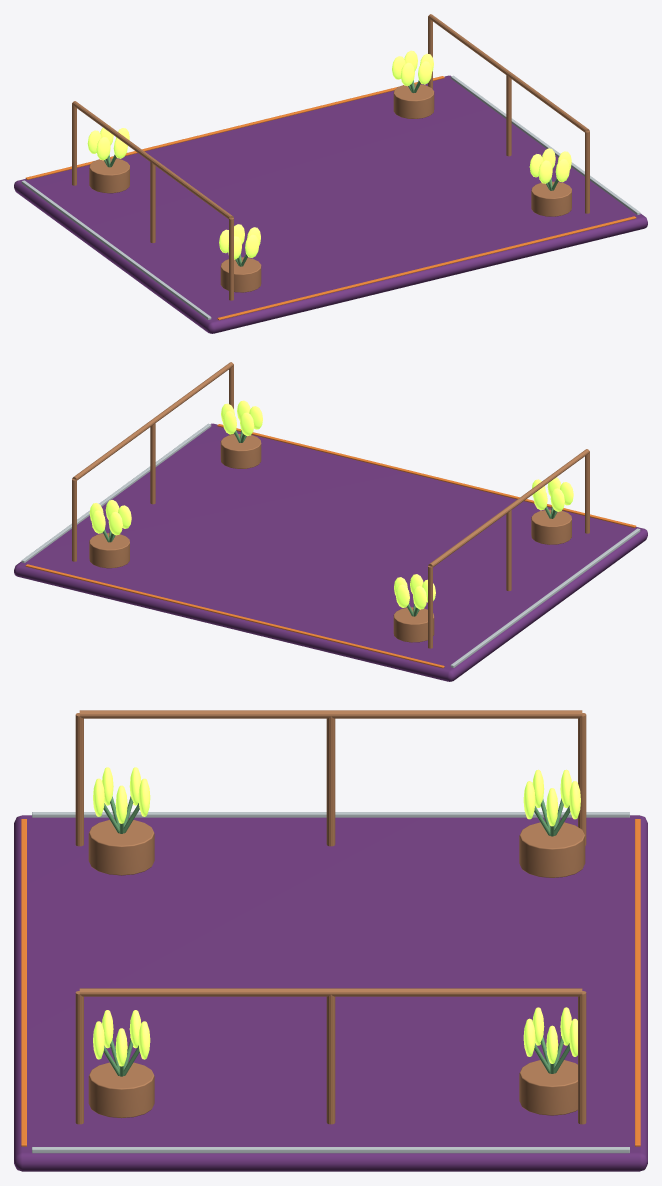
The model's file is arena-greenhouse.glb.
3 renders of one model, top to bottom at view 1: azimuth 30°, elevation 25°; view 2: azimuth 150°, elevation 25°; view 3: azimuth 270°, elevation 25°, orthographic. The views are drawn at different scales.
Visible parts, largest first — view 1: Arena slab.002, Orange safety edge.004, Mechanical planter.001, Mechanical planter, Mechanical planter.003, Orange safety edge.005, Aluminium edge.004, Greenhouse roof rail, Greenhouse roof rail.001, Mechanical planter.002, Aluminium edge.005, Greenhouse frame.001 (+1 smaller); view 2: Arena slab.002, Orange safety edge.005, Orange safety edge.004, Mechanical planter.003, Mechanical planter.001, Mechanical planter.002, Aluminium edge.004, Mechanical planter, Greenhouse roof rail, Greenhouse roof rail.001, Aluminium edge.005, Greenhouse frame.001 (+1 smaller); view 3: Arena slab.002, Greenhouse roof rail, Greenhouse roof rail.001, Aluminium edge.005, Mechanical planter, Mechanical planter.003, Mechanical planter.002, Aluminium edge.004, Mechanical planter.001, Orange safety edge.004, Orange safety edge.005, Greenhouse frame.001 (+5 smaller).
Part boxes in pixels (left/top/right/bottom): Arena slab.002: left=14, top=75, right=647, bottom=333; Orange safety edge.004: left=217, top=216, right=636, bottom=320; Mechanical planter.001: left=393, top=84, right=434, bottom=118; Mechanical planter: left=89, top=158, right=129, bottom=193; Mechanical planter.003: left=531, top=181, right=571, bottom=216; Orange safety edge.005: left=25, top=76, right=444, bottom=179; Aluminium edge.004: left=21, top=180, right=211, bottom=319; Greenhouse roof rail: left=72, top=101, right=233, bottom=219; Greenhouse roof rail.001: left=428, top=14, right=589, bottom=132; Mechanical planter.002: left=220, top=257, right=261, bottom=292; Aluminium edge.005: left=450, top=75, right=640, bottom=214; Greenhouse frame.001: left=150, top=161, right=155, bottom=242; Arena slab.002: left=14, top=423, right=647, bottom=681; Orange safety edge.005: left=25, top=564, right=444, bottom=668; Orange safety edge.004: left=217, top=424, right=636, bottom=527; Mechanical planter.003: left=220, top=434, right=261, bottom=468; Mechanical planter.001: left=89, top=533, right=129, bottom=568; Mechanical planter.002: left=531, top=509, right=571, bottom=544; Aluminium edge.004: left=450, top=528, right=640, bottom=667; Mechanical planter: left=393, top=607, right=434, bottom=642; Greenhouse roof rail: left=428, top=449, right=589, bottom=567; Greenhouse roof rail.001: left=72, top=362, right=233, bottom=480; Aluminium edge.005: left=21, top=423, right=211, bottom=562; Greenhouse frame.001: left=506, top=509, right=511, bottom=590; Arena slab.002: left=14, top=815, right=647, bottom=1171; Greenhouse roof rail: left=79, top=710, right=582, bottom=718; Greenhouse roof rail.001: left=79, top=988, right=582, bottom=996; Aluminium edge.005: left=32, top=1147, right=629, bottom=1153; Mechanical planter: left=519, top=822, right=585, bottom=877; Mechanical planter.003: left=88, top=1062, right=154, bottom=1118; Mechanical planter.002: left=88, top=819, right=154, bottom=875; Aluminium edge.004: left=32, top=812, right=629, bottom=817; Mechanical planter.001: left=519, top=1060, right=577, bottom=1115; Orange safety edge.004: left=21, top=819, right=26, bottom=1146; Orange safety edge.005: left=635, top=819, right=640, bottom=1146; Greenhouse frame.001: left=326, top=716, right=335, bottom=846.
Bounding box in the file's own units: 13.6 × 2.83 × 10.6.
